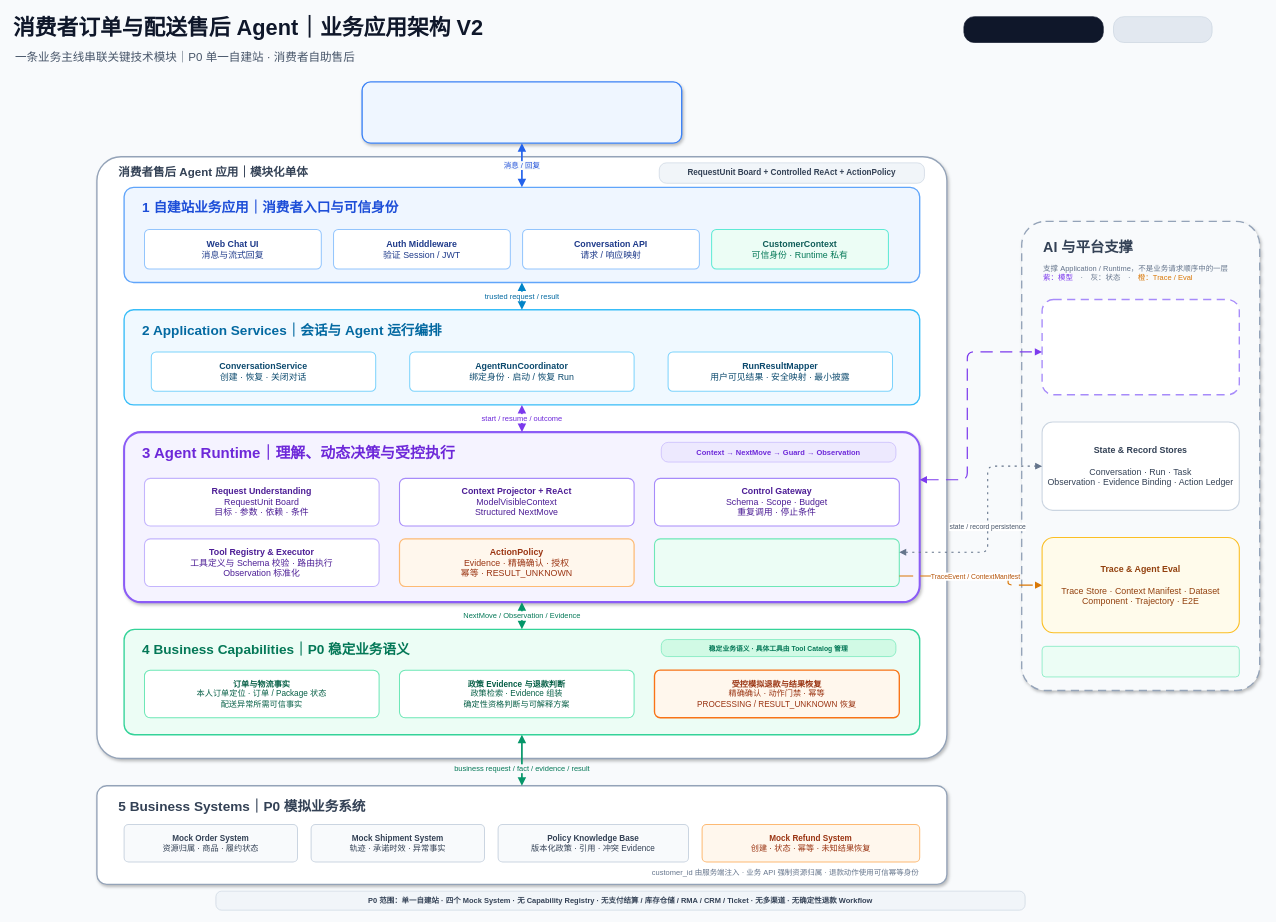
Some shapes in this 1276 by 922 pixel diagram are drawn without their labels. The shapes that lost their labels are listed below. From the top down, each one's centre as x and y in pixels, then its label:
At [1033,29]: "BUSINESS + TECHNOLOGY".
At [1162,29]: "V2 · P0".
At [522,113]: "已登录消费者 查询订单与物流 · 识别配送异常 · 判断退款资格 · 创建模拟退款 / 查询退款状态".
At [1140,347]: "LLM Provider 语义理解与推理 返回 Structured NextMove 仅接收 ModelVisibleContext".
At [777,562]: "Run & Task State RequestUnit Board · L2 Task Working Context 记录引用 · 版本 · 恢复点".
At [1140,661]: "CustomerContext 不进入模型 Trace 不保存 Token 与不必要 PII".
